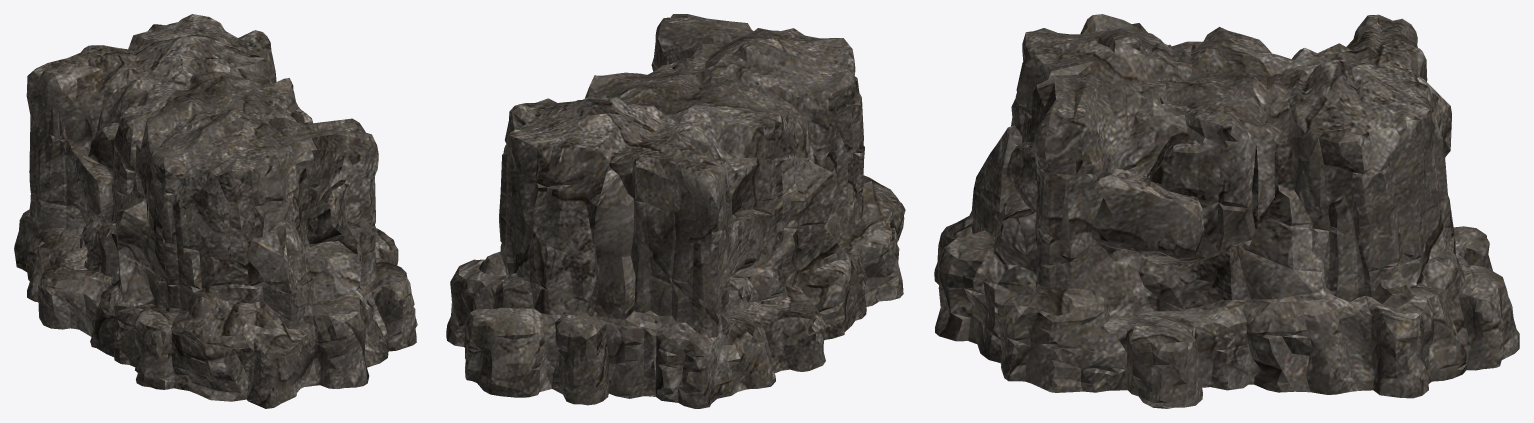
File: Rock01.gltf
3 renders of one model, left to right at view 1: azimuth 30°, elevation 25°; view 2: azimuth 150°, elevation 25°; view 3: azimuth 270°, elevation 25°, orthographic. The views are drawn at different scales.
Parts seen in each view (by area): view 1: SM_Mesa_Rock_6_LOD0; view 2: SM_Mesa_Rock_6_LOD0; view 3: SM_Mesa_Rock_6_LOD0.
Part boxes in pixels (x1=…): SM_Mesa_Rock_6_LOD0: x1=14, y1=14, x2=417, y2=408; SM_Mesa_Rock_6_LOD0: x1=446, y1=14, x2=905, y2=408; SM_Mesa_Rock_6_LOD0: x1=934, y1=14, x2=1519, y2=408.
Size of what is drawn, in the model's own units: 13.7 by 9.61 by 19.02.
Materials: 1 (1 with a texture image).
